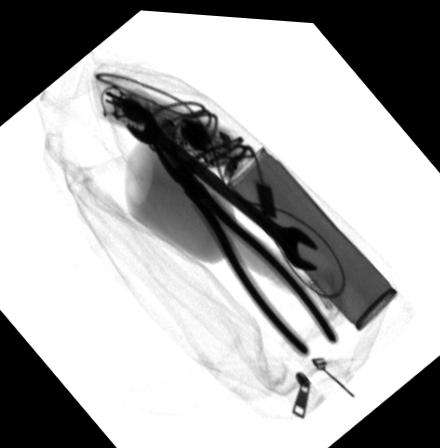Pliers: (152, 145, 341, 353)
Wrench: (124, 99, 320, 268)
